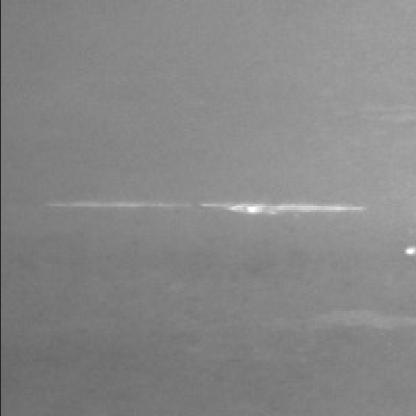scratches: (48, 198, 364, 226)
